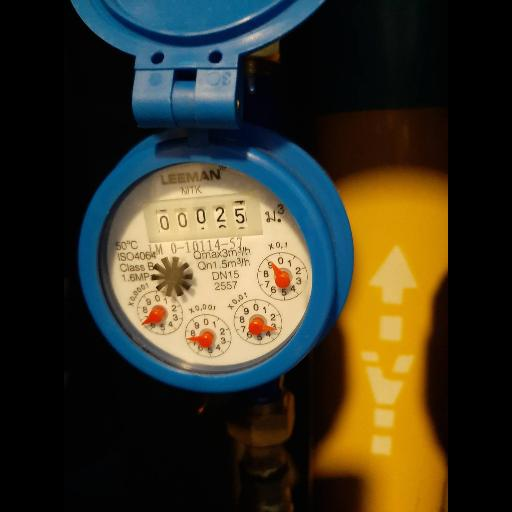0: (193, 205, 209, 231), (157, 209, 173, 234), (174, 208, 190, 233)
2: (212, 203, 229, 229)
5: (231, 199, 249, 231)
border_water_meter_number: (141, 192, 263, 247)
